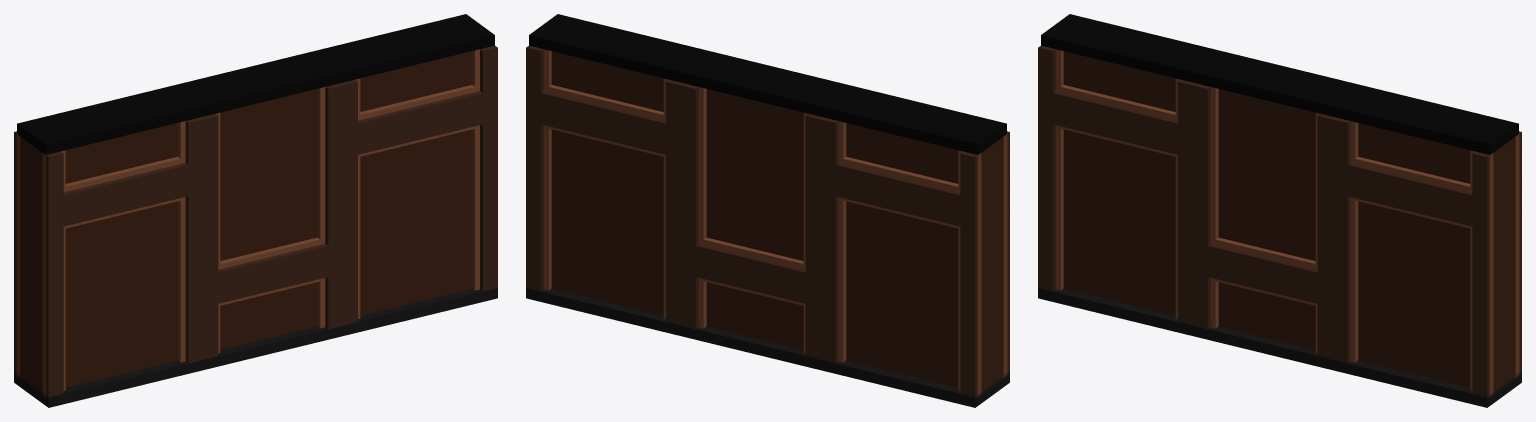
The model's file is Wall-Wood-Model-02.fbx.
3 renders of one model, left to right at view 1: azimuth 30°, elevation 25°; view 2: azimuth 150°, elevation 25°; view 3: azimuth 330°, elevation 25°, orthographic.
Parts seen in each view (by area): view 1: Wall-Wood-Model-02; view 2: Wall-Wood-Model-02; view 3: Wall-Wood-Model-02.
Part boxes in pixels (left/top/right/bottom): Wall-Wood-Model-02: left=14, top=14, right=497, bottom=407; Wall-Wood-Model-02: left=526, top=14, right=1009, bottom=407; Wall-Wood-Model-02: left=1038, top=14, right=1521, bottom=407.
Bounding box in the file's own units: 90 × 50 × 12.
1 material, 1 textured.
